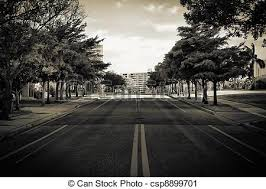strada: (1, 99, 266, 177)
